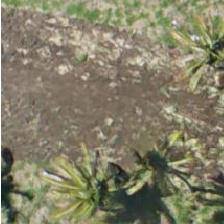Kelapa_Sawit: (24, 130, 114, 220), (166, 8, 224, 98)
